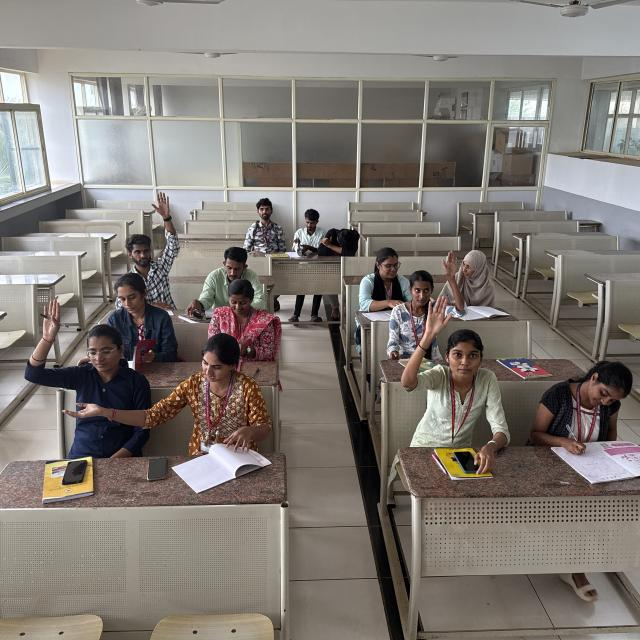Hand Rising: (21, 291, 154, 446), (400, 293, 506, 437), (395, 246, 468, 343), (118, 188, 186, 292)
Reading: (102, 271, 174, 370)
Sleeping: (316, 218, 366, 268)
Writing: (530, 357, 636, 468)
